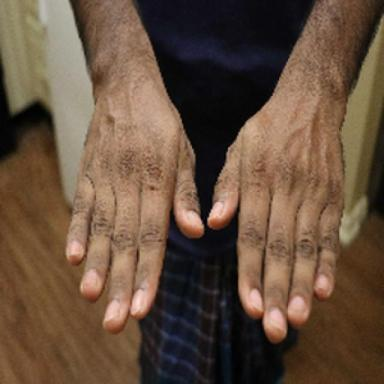normal skin: (207, 0, 384, 343), (67, 0, 204, 333)
